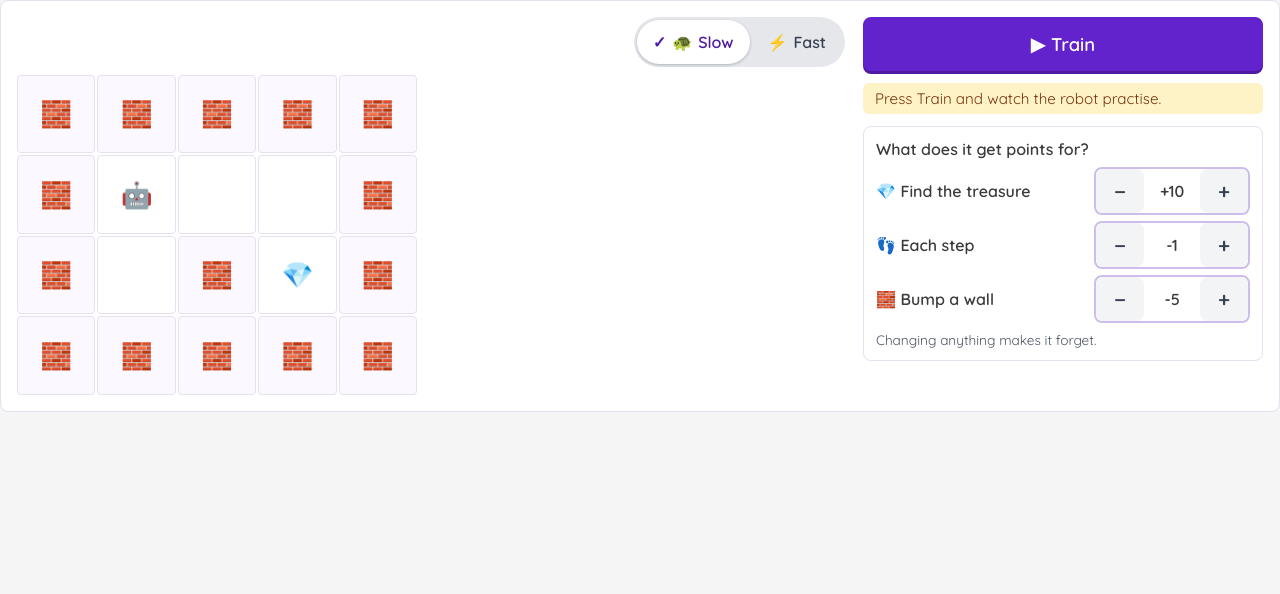
Test: Game agent UI › trains the set number of tries, then Go! finds the treasure and passes
Click the button "▶Train" at (1063, 44), box x1=863 y1=17 x2=1263 y2=71
Wait 30000 ms
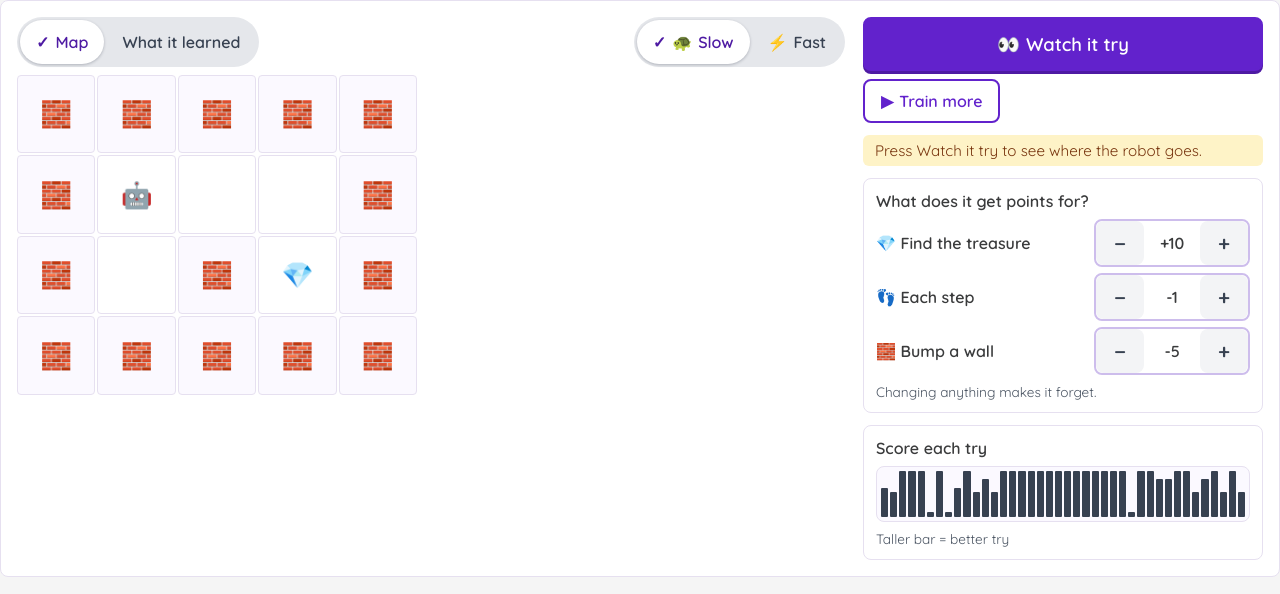
Result: the picture with test id "ga-curve" is shown at x1=876 y1=466 x2=1250 y2=522
Click the button "👀Watch it try" at (1063, 44), box x1=863 y1=17 x2=1263 y2=71
Wait 3000 ms
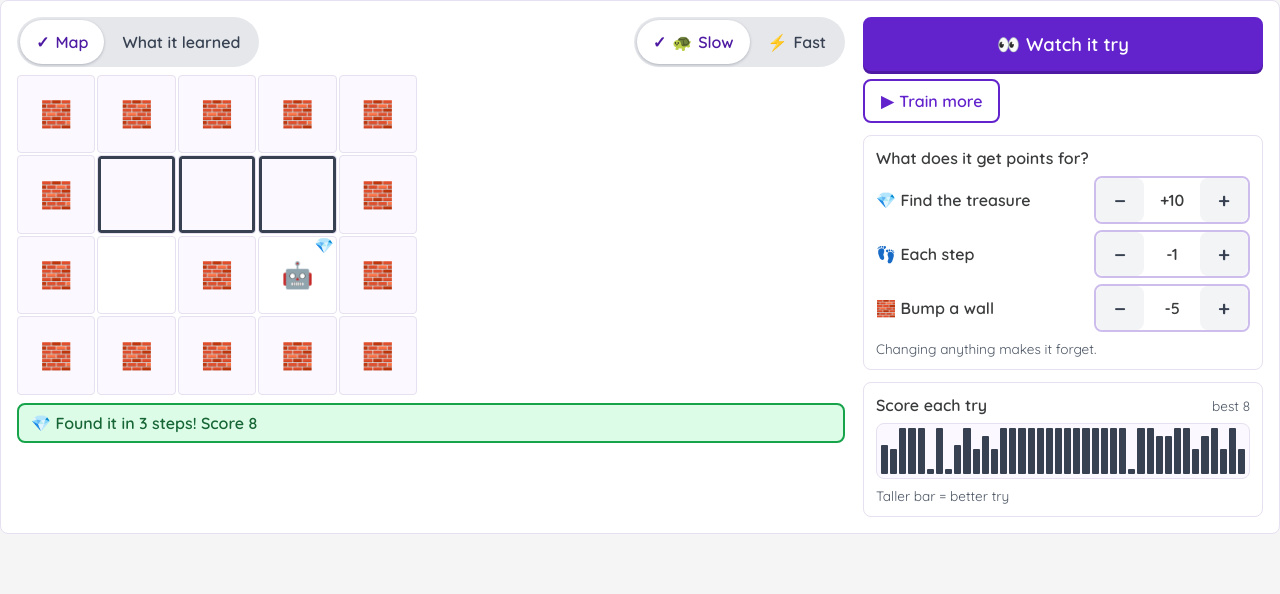
Result: the element with test id "ga-result" shows "Found it in 3 steps" at x1=17 y1=403 x2=845 y2=443
